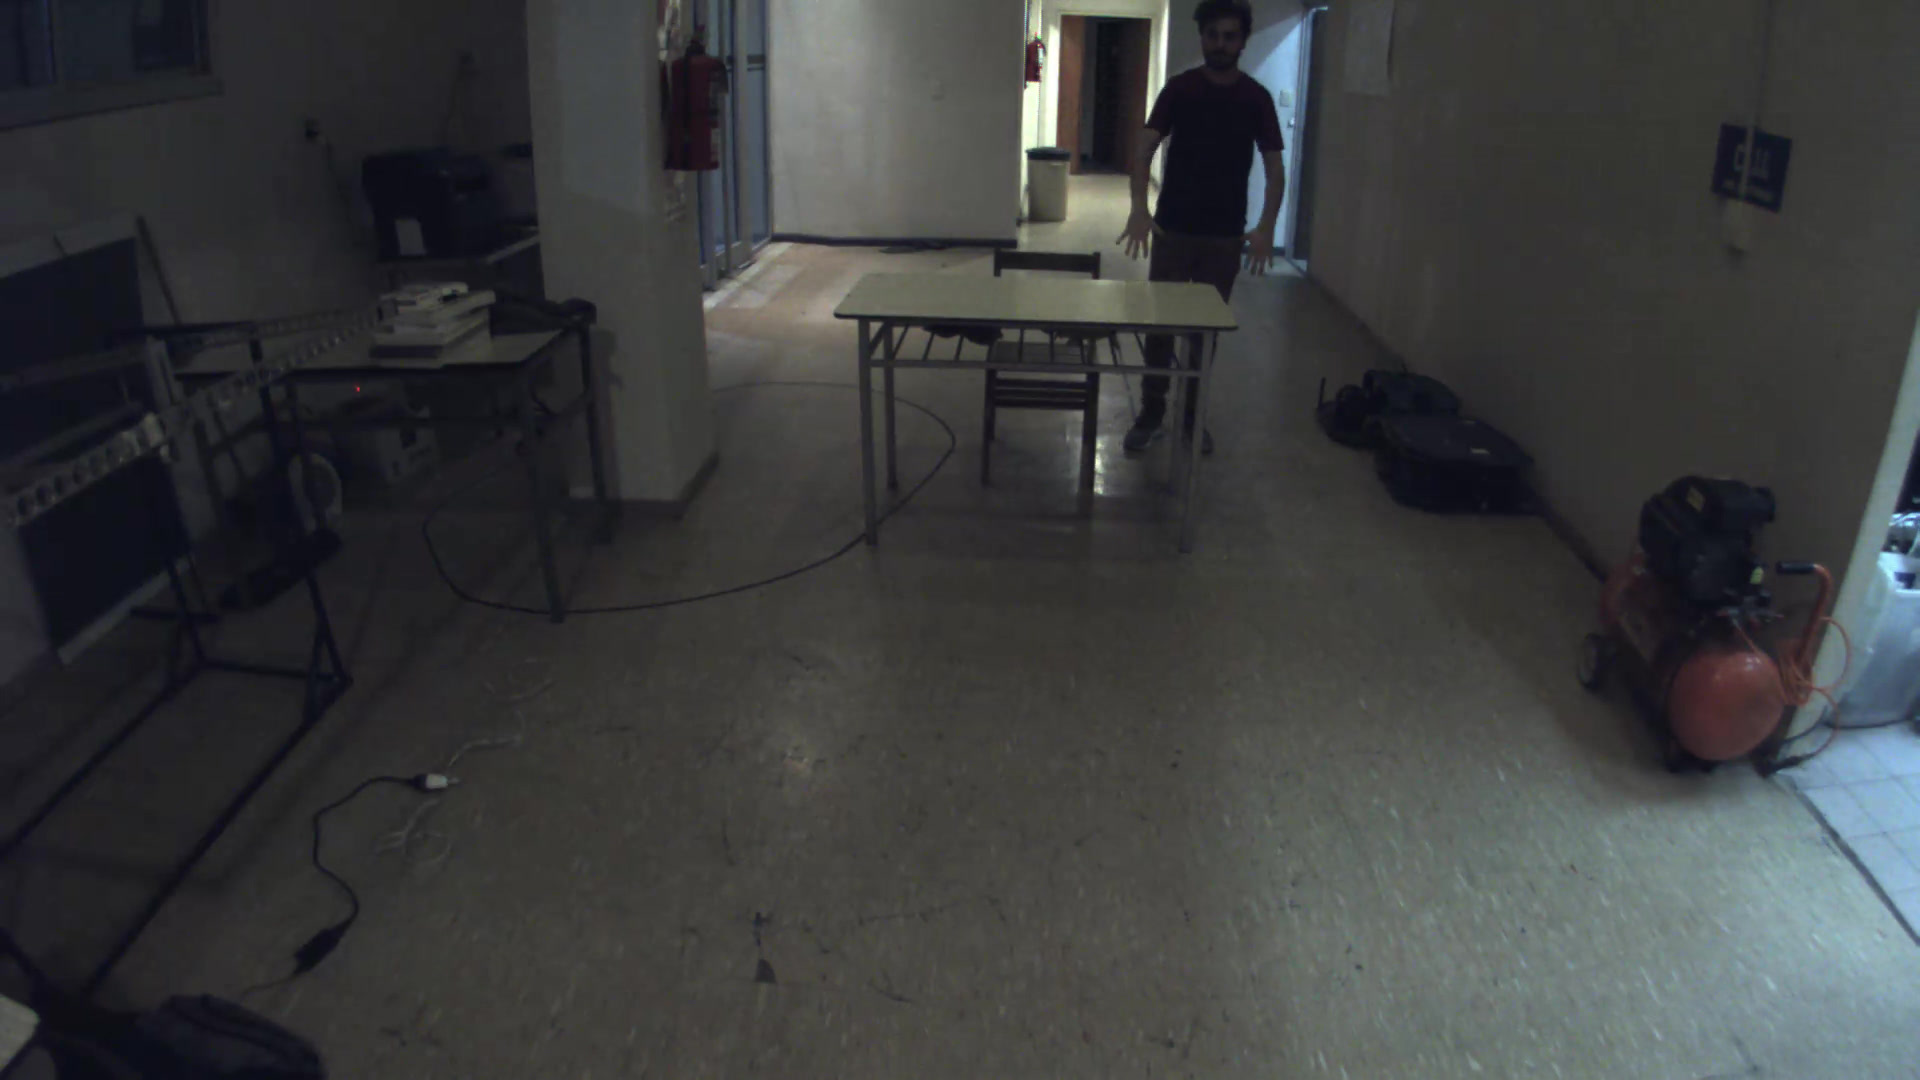hand: (1106, 199, 1160, 269), (1236, 212, 1282, 273)
